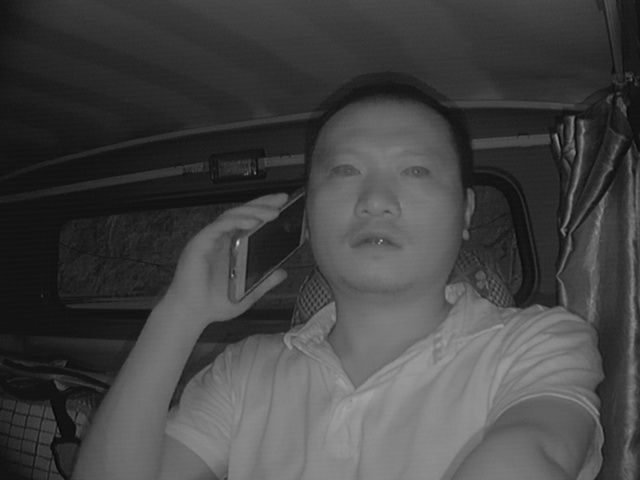hand: (179, 193, 291, 318)
